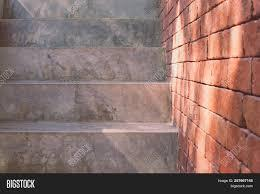Bench: (0, 0, 181, 172)
